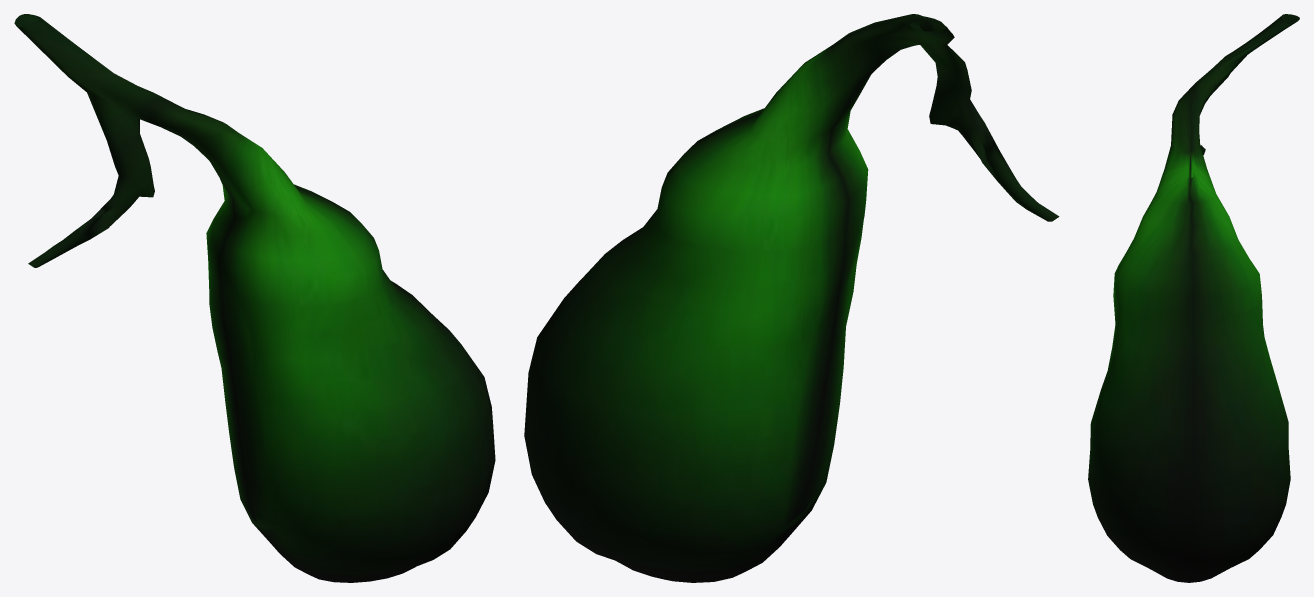
File: newOFF.obj
The picture shows the model from 3 angles, left to right: view 1: azimuth 30°, elevation 25°; view 2: azimuth 150°, elevation 25°; view 3: azimuth 270°, elevation 25°; orthographic projection. The views are drawn at different scales.
Size of the model in its own units: 1.44 by 1.79 by 0.7628.
1 material, 1 textured.
